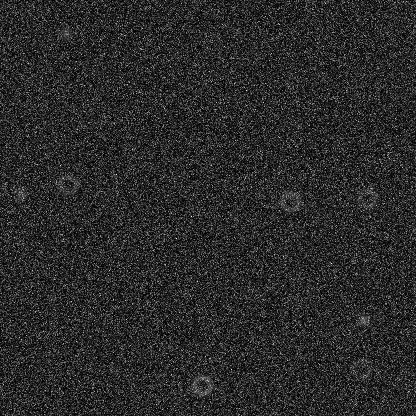Ring: (278, 189, 302, 213), (55, 173, 79, 197), (239, 284, 263, 308), (190, 373, 214, 397), (349, 356, 373, 380), (355, 186, 379, 210)
Spot: (227, 317, 243, 333), (168, 392, 184, 408), (57, 24, 73, 40), (12, 185, 28, 201), (355, 312, 371, 328)
